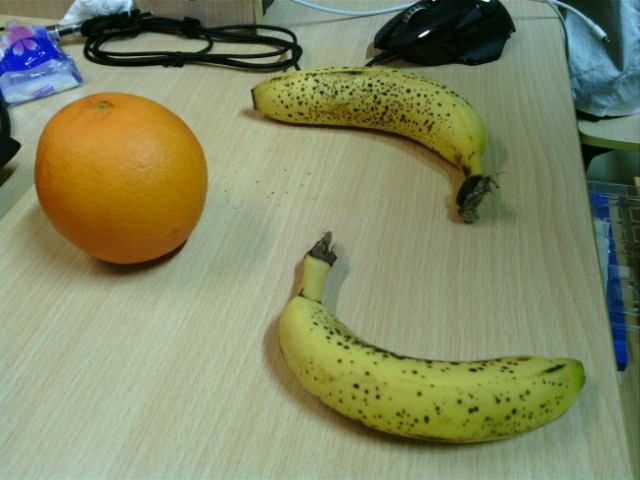normal_banana: (277, 232, 586, 446), (248, 64, 502, 225)
normal_orange: (34, 92, 210, 263)
